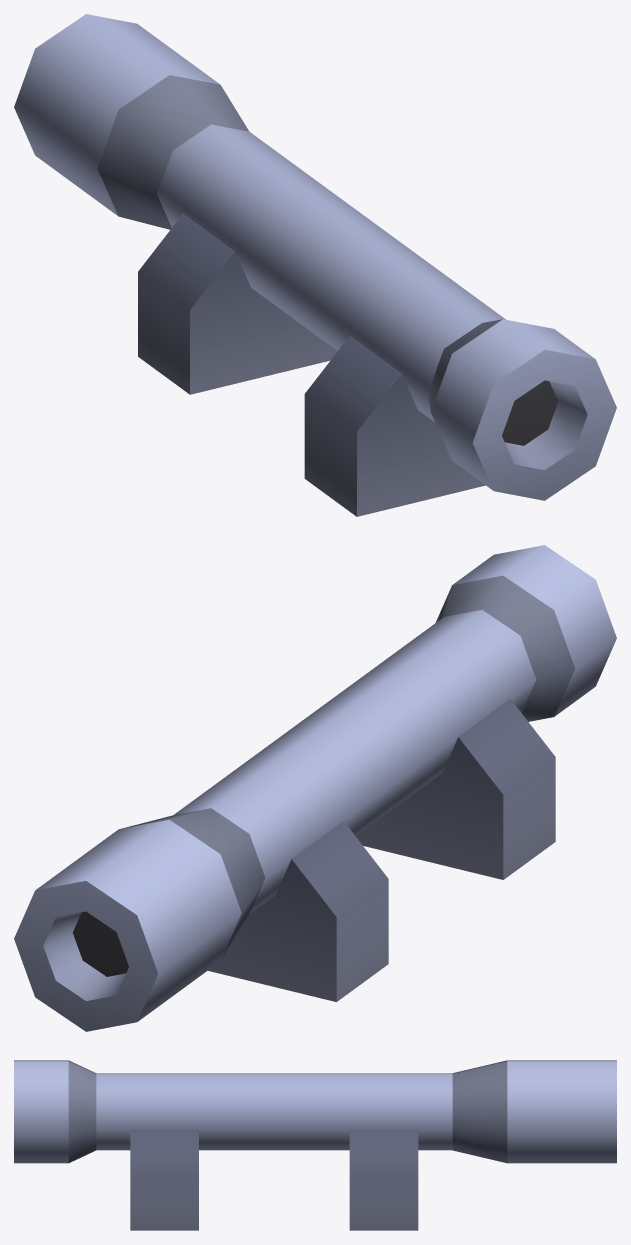
File: rifle_scope.glb
The picture shows the model from 3 angles, top to bottom: view 1: azimuth 30°, elevation 25°; view 2: azimuth 150°, elevation 25°; view 3: azimuth 270°, elevation 25°; orthographic projection. The views are drawn at different scales.
Visible parts, largest first — view 1: scope-large-a; view 2: scope-large-a; view 3: scope-large-a.
Part boxes in pixels (x1,y1,x2,y2): scope-large-a: (14, 14, 616, 516); scope-large-a: (14, 545, 616, 1031); scope-large-a: (14, 1060, 616, 1230).
Bounding box in the file's own units: 0.11 × 0.11 × 0.44.
1 material, 1 textured.
